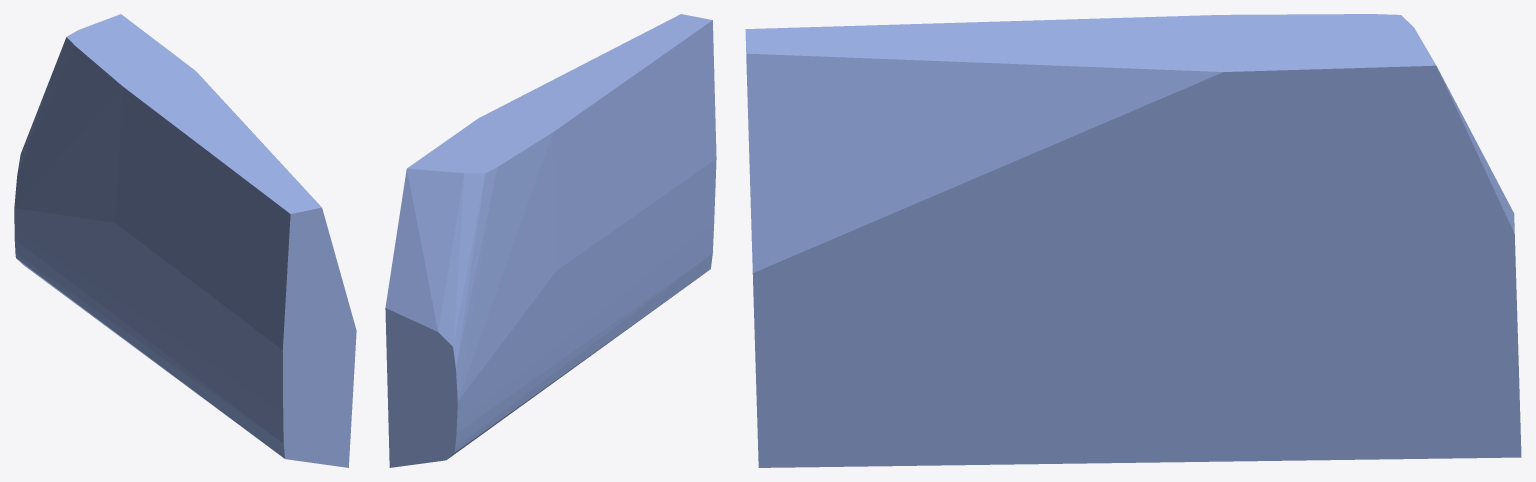
Rendered from converted_Downdraft_Assy_collision_61_a2baf5ff.obj.
3 views of the same model, side by side, from view 1: azimuth 30°, elevation 25°; view 2: azimuth 150°, elevation 25°; view 3: azimuth 270°, elevation 25° (orthographic). The views are drawn at different scales.
Size of the model in its own units: 0.0402 by 0.1351 by 0.2315.
